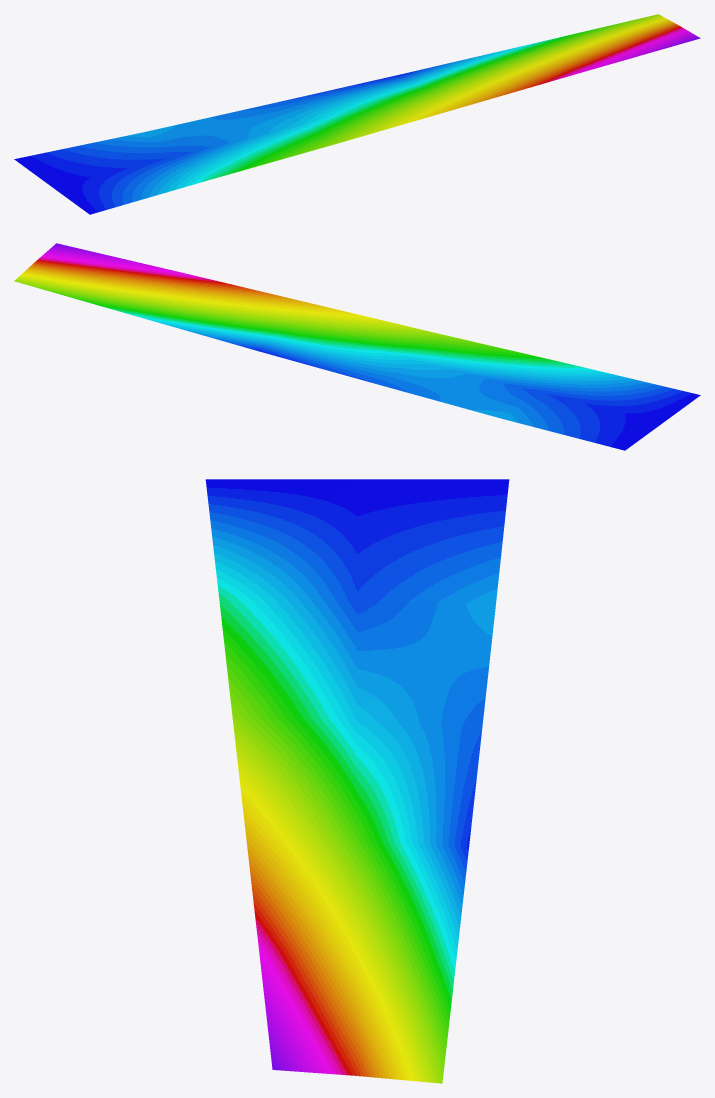
3 renders of one model, top to bottom at view 1: azimuth 30°, elevation 25°; view 2: azimuth 150°, elevation 25°; view 3: azimuth 270°, elevation 25°, orthographic. The views are drawn at different scales.
Visible parts, largest first — view 1: Elements; view 2: Elements; view 3: Elements.
Boxes of the visible parts, bbox=[...] form: Elements: bbox=[14, 14, 700, 214]; Elements: bbox=[14, 243, 700, 450]; Elements: bbox=[205, 479, 509, 1083].
Bounding box in the file's own units: 1 × 0.0189 × 0.2095.
1 material, 1 textured.
